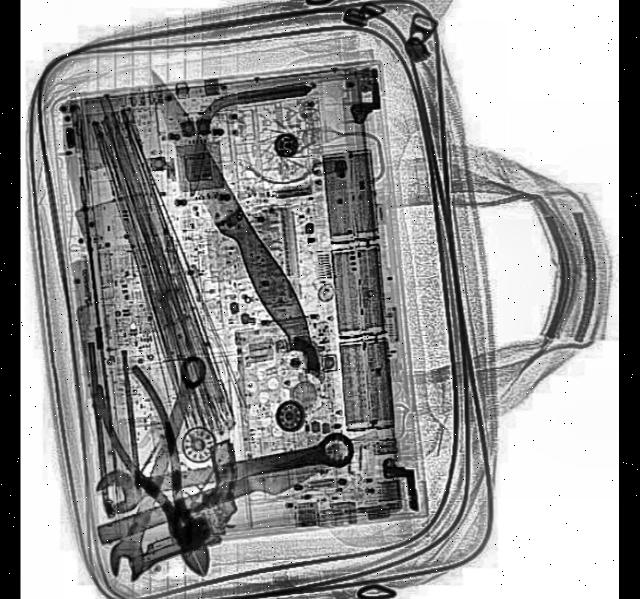Gun: (110, 437, 260, 580)
Knife: (140, 61, 320, 362), (96, 428, 382, 559)
Pliers: (86, 356, 236, 592)
Wrench: (95, 418, 358, 522), (104, 352, 217, 590)
